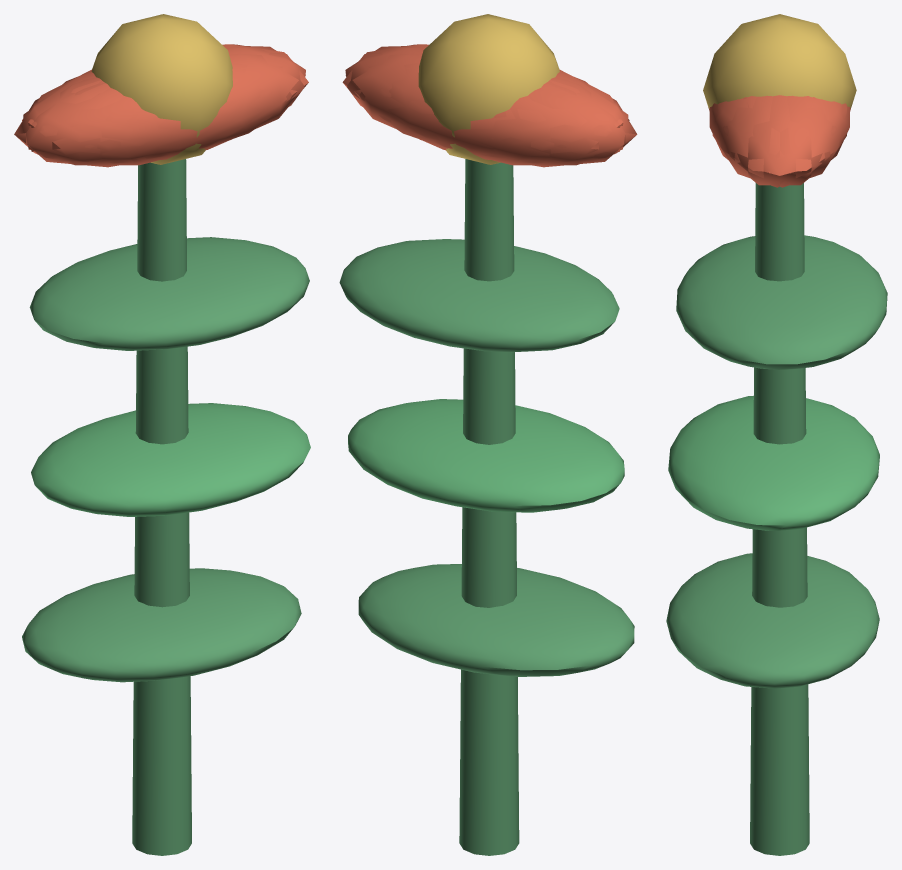
The model's file is homalomena-philippinensis.glb.
3 renders of one model, left to right at view 1: azimuth 30°, elevation 25°; view 2: azimuth 150°, elevation 25°; view 3: azimuth 270°, elevation 25°, orthographic.
Visible parts, largest first — view 1: stem, leaf1, leaf0, leaf2, center, petal6, petal2, petal1, petal5, petal7, petal0; view 2: stem, leaf2, leaf1, leaf0, center, petal3, petal7, petal8, petal4, petal2, petal0; view 3: stem, leaf2, leaf1, leaf0, center, petal0, petal5, petal4, petal1, petal8.
Part boxes in pixels (box(x1,y1,x2,y2)): stem: box(132, 159, 191, 855); leaf1: box(31, 403, 310, 516); leaf0: box(22, 568, 301, 682); leaf2: box(29, 237, 309, 350); center: box(91, 14, 232, 164); petal6: box(31, 82, 219, 165); petal2: box(23, 77, 168, 167); petal1: box(97, 62, 291, 163); petal5: box(157, 52, 308, 155); petal7: box(14, 72, 109, 158); petal0: box(226, 46, 305, 139); stem: box(459, 159, 519, 855); leaf2: box(339, 239, 619, 352); leaf1: box(348, 399, 624, 512); leaf0: box(358, 564, 634, 676); center: box(418, 14, 559, 164); petal3: box(431, 82, 620, 165); petal7: box(483, 77, 628, 167); petal8: box(359, 62, 554, 163); petal4: box(342, 52, 493, 155); petal2: box(541, 72, 637, 158); petal0: box(345, 46, 424, 139); stem: box(750, 183, 809, 855); leaf2: box(676, 235, 887, 369); leaf1: box(668, 395, 879, 530); leaf0: box(666, 553, 879, 688); center: box(703, 14, 856, 108); petal0: box(723, 95, 836, 185); petal5: box(712, 95, 791, 187); petal4: box(768, 95, 846, 187); petal1: box(709, 96, 757, 160); petal8: box(802, 96, 849, 160).
Size of the model in its own units: 0.1541 by 0.4252 by 0.1036.
